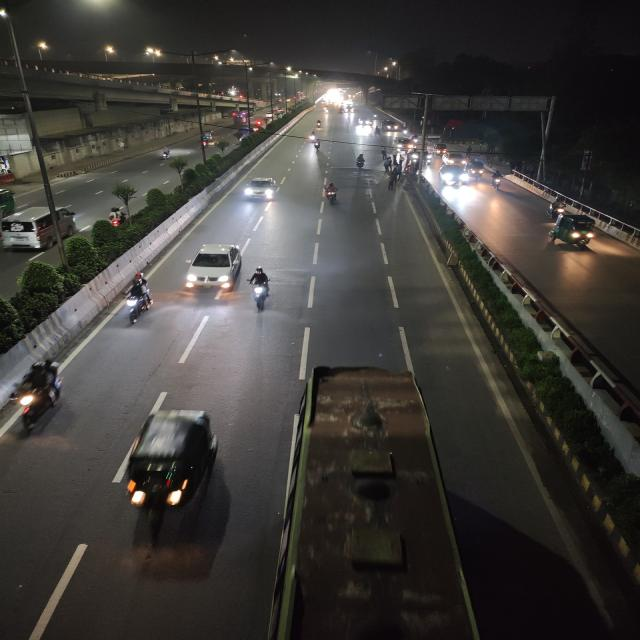bus: (272, 358, 457, 640)
car: (0, 201, 79, 255), (181, 241, 247, 297), (240, 175, 284, 205), (438, 163, 467, 186), (443, 151, 467, 166), (395, 136, 416, 150), (381, 120, 402, 134), (432, 143, 448, 155)
cng: (110, 399, 230, 534), (548, 213, 600, 250), (466, 160, 486, 178), (200, 130, 218, 142)
motorcycle: (4, 353, 65, 439), (117, 272, 156, 330), (245, 265, 278, 313), (321, 180, 342, 208), (105, 205, 130, 228), (545, 198, 571, 220), (155, 144, 175, 162), (353, 152, 369, 172), (490, 170, 504, 190), (309, 134, 321, 149), (311, 138, 323, 152), (314, 118, 324, 130)
pedestrian: (386, 176, 396, 192), (383, 160, 393, 174), (380, 147, 388, 160)
